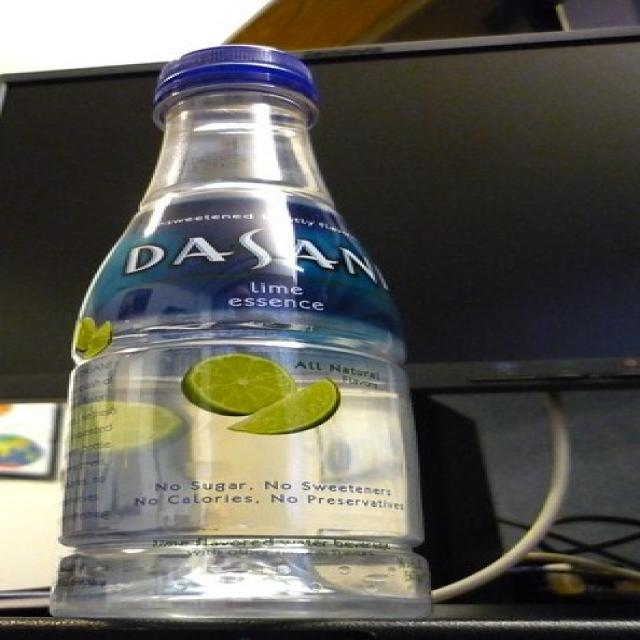plastic_bottle: (49, 45, 433, 619)
